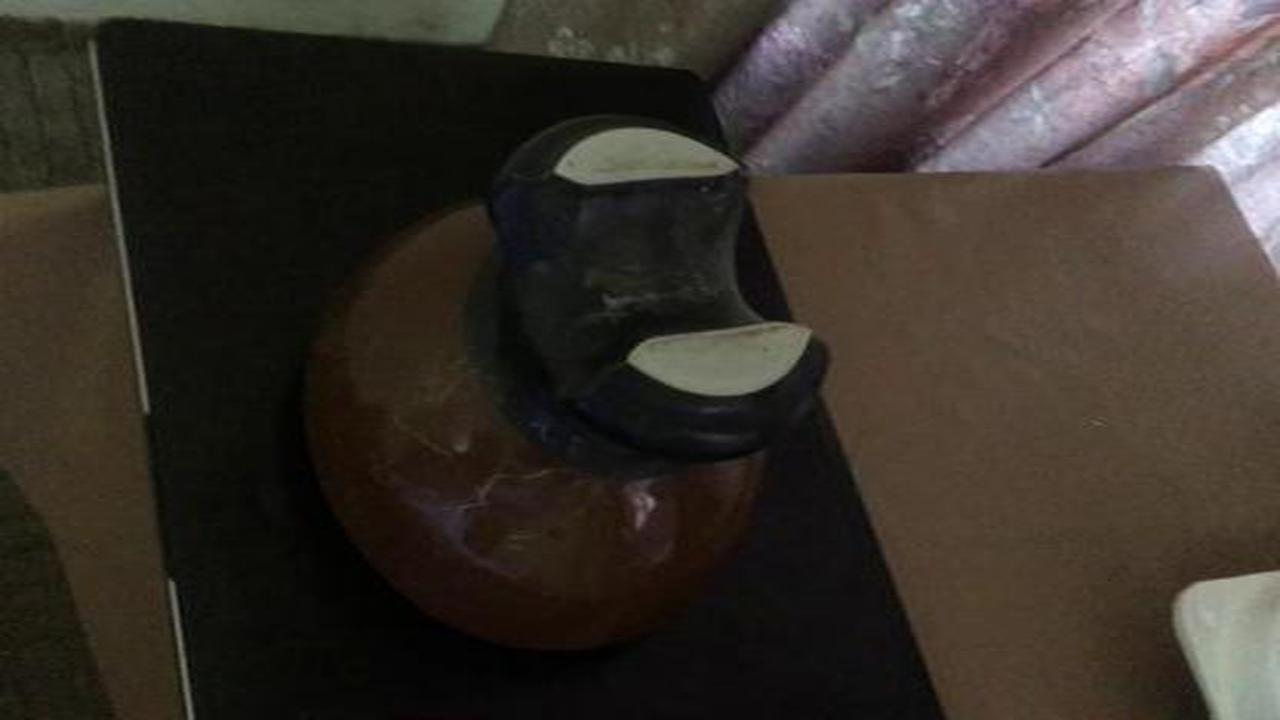insulator_pin: (277, 99, 850, 686)
